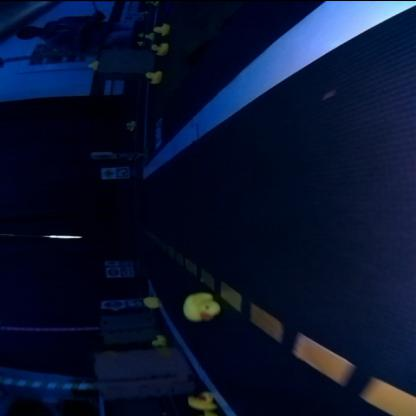Duckie: (182, 293, 218, 321), (189, 394, 213, 410), (152, 24, 170, 36), (144, 296, 158, 308), (151, 44, 167, 54), (146, 72, 160, 82), (152, 335, 164, 346), (88, 63, 96, 70), (126, 121, 134, 126)
QR code: (154, 121, 162, 146), (119, 266, 132, 276), (117, 168, 127, 178)
Stop sign: (100, 300, 122, 308), (106, 268, 118, 277)
